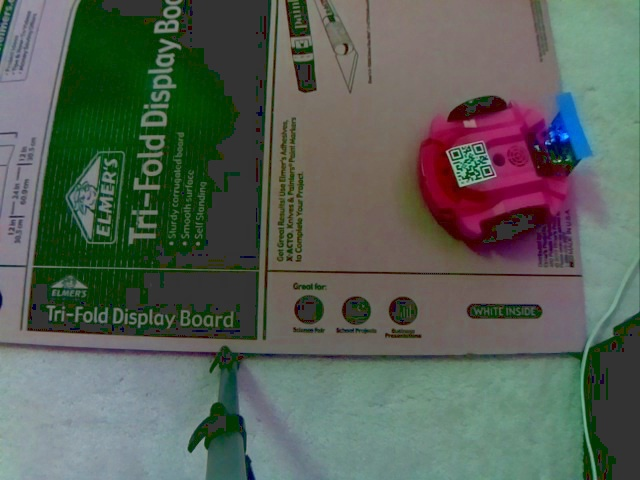board: (533, 88, 600, 179)
chassis: (414, 82, 594, 246)
